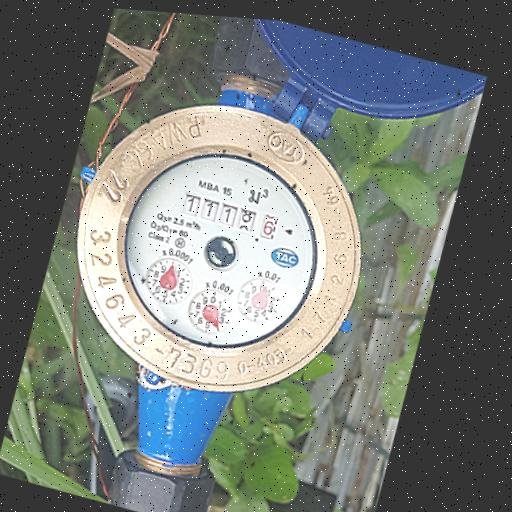1: (200, 198, 219, 223), (181, 194, 201, 217), (219, 204, 237, 228)
6: (260, 214, 278, 240)
8: (238, 209, 257, 233)
border_water_meter_number: (177, 190, 281, 242)
